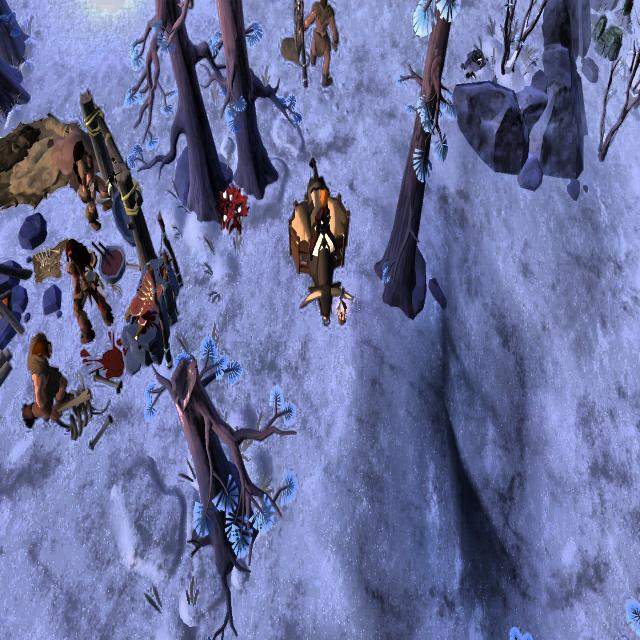enemy_factionKeeper: (62, 239, 112, 342), (22, 333, 73, 428), (298, 0, 342, 85), (70, 137, 108, 228)
fiber_t5: (217, 182, 248, 235)
rock_t3: (591, 13, 623, 62)
